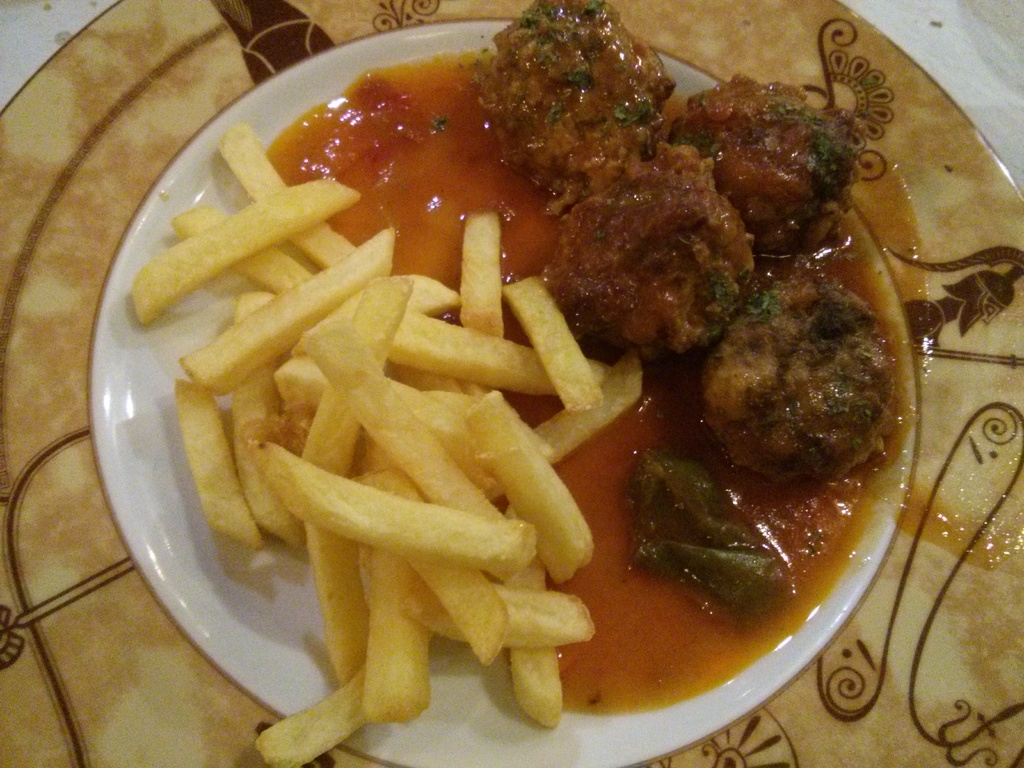French fries: (113, 115, 650, 766)
